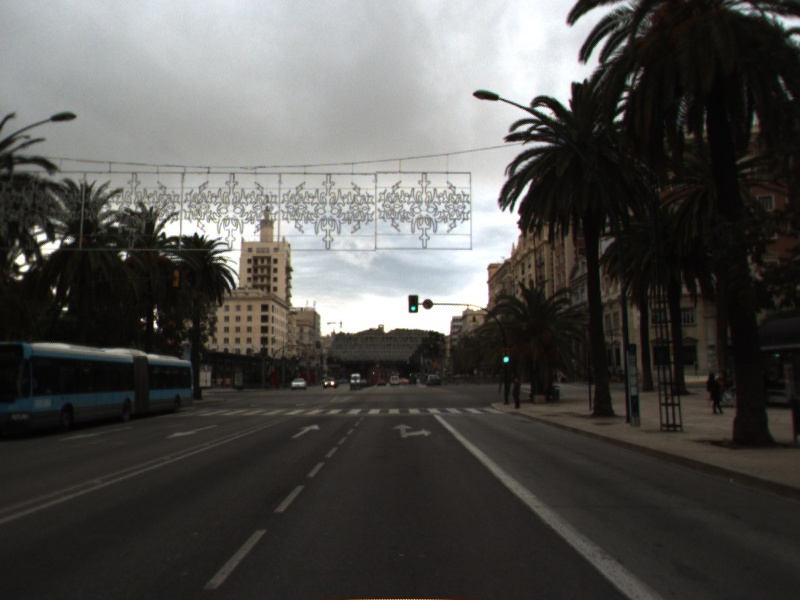STRAIGHT: (289, 422, 322, 440)
STRAIGHT_RIGHT: (390, 422, 434, 440)
